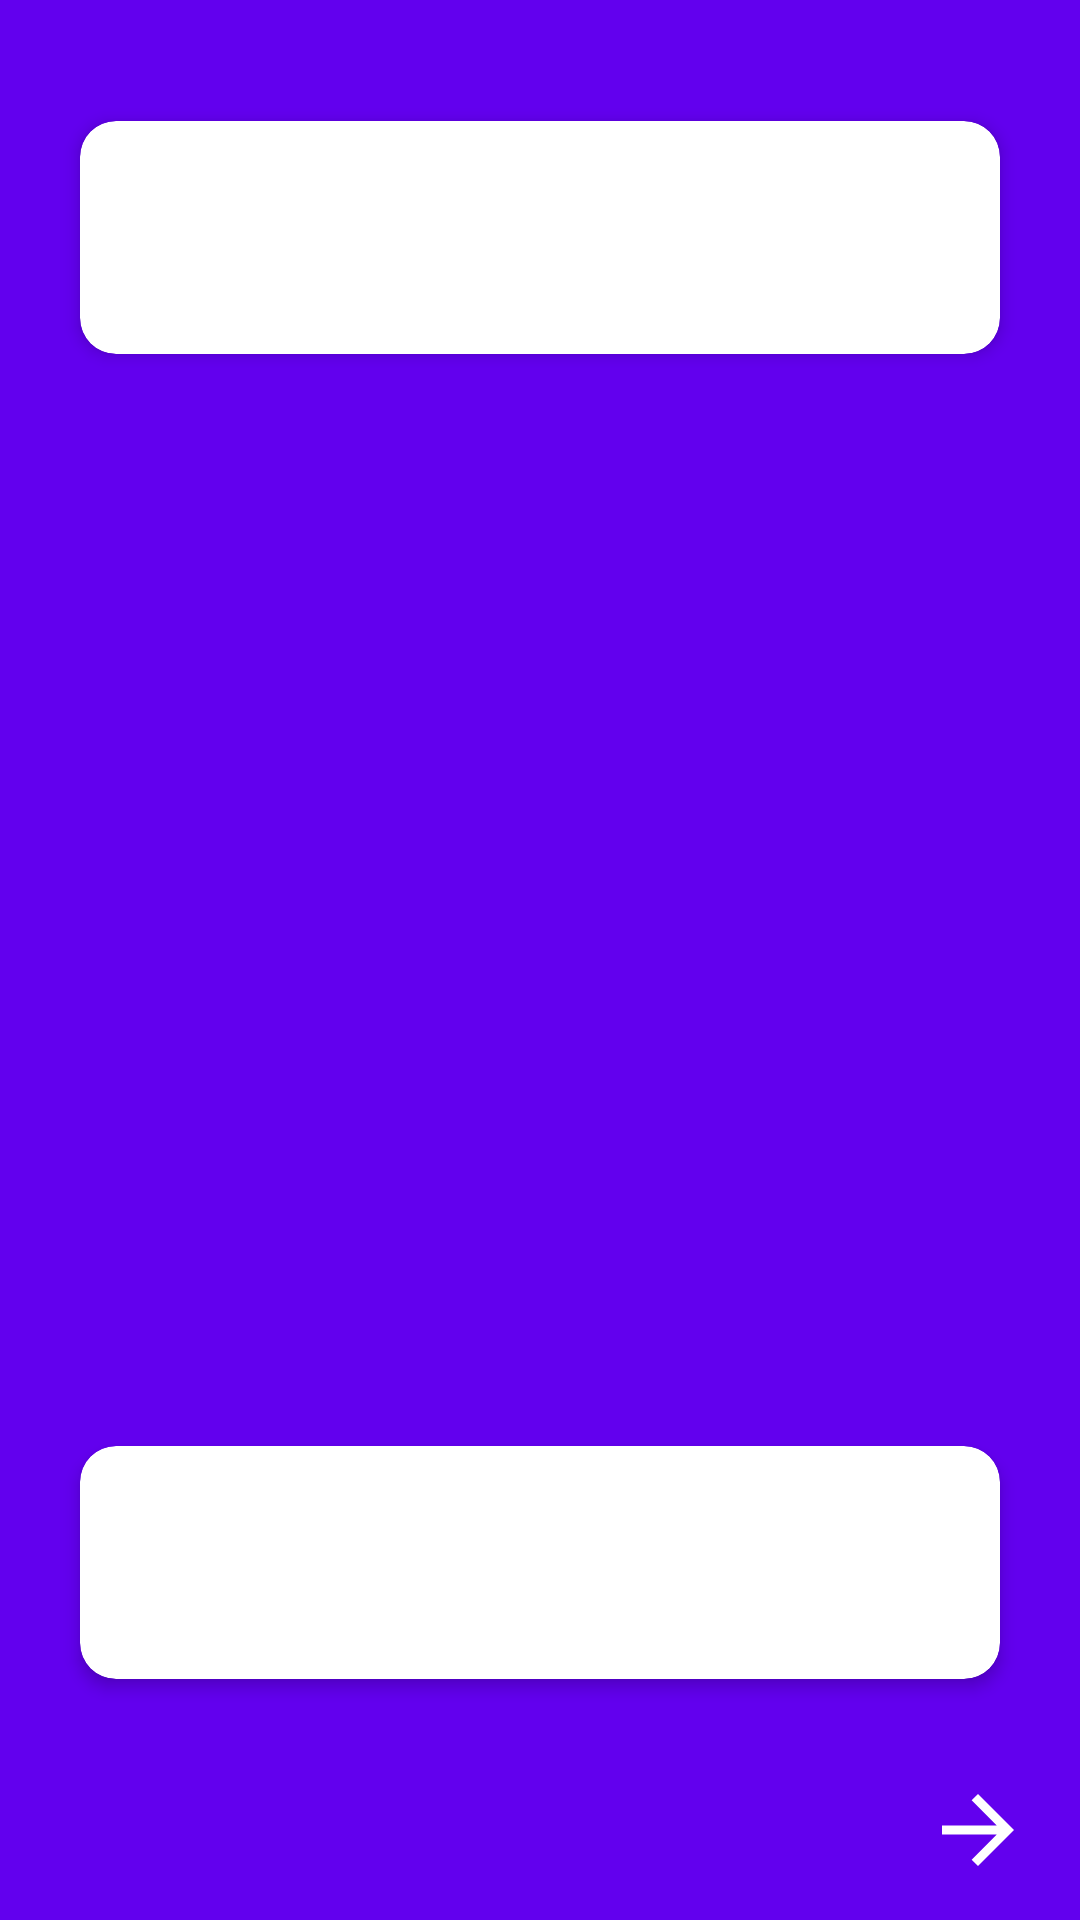

Named icons in this screenshot (1080px×1920px) and their centers, (x,y):
arrow forward: (978,1830)
